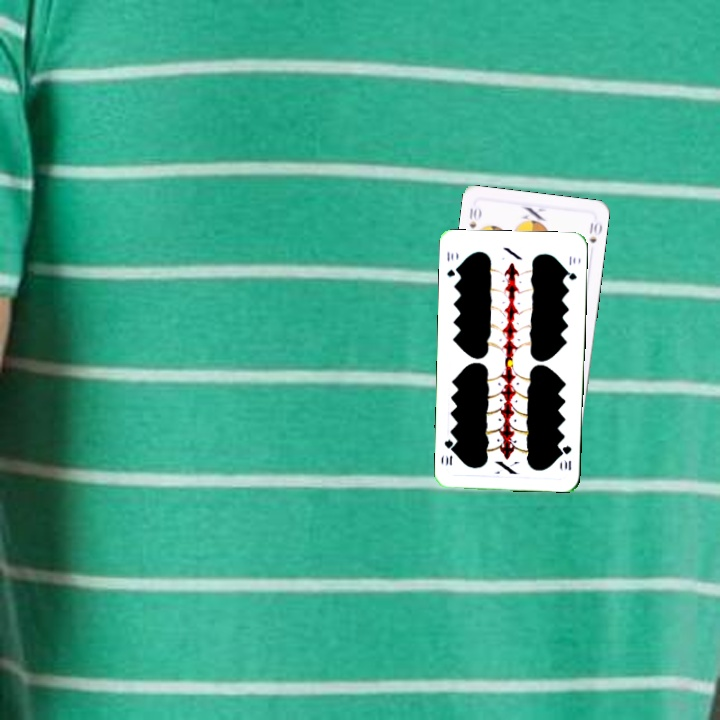G10: (443, 247, 461, 279), (559, 442, 574, 473)
S10: (465, 203, 484, 231)
